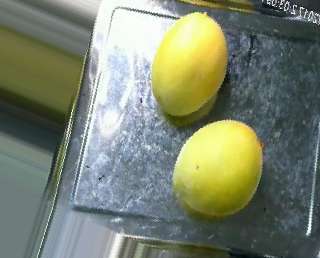Mango: (169, 112, 268, 224), (151, 11, 232, 117)
